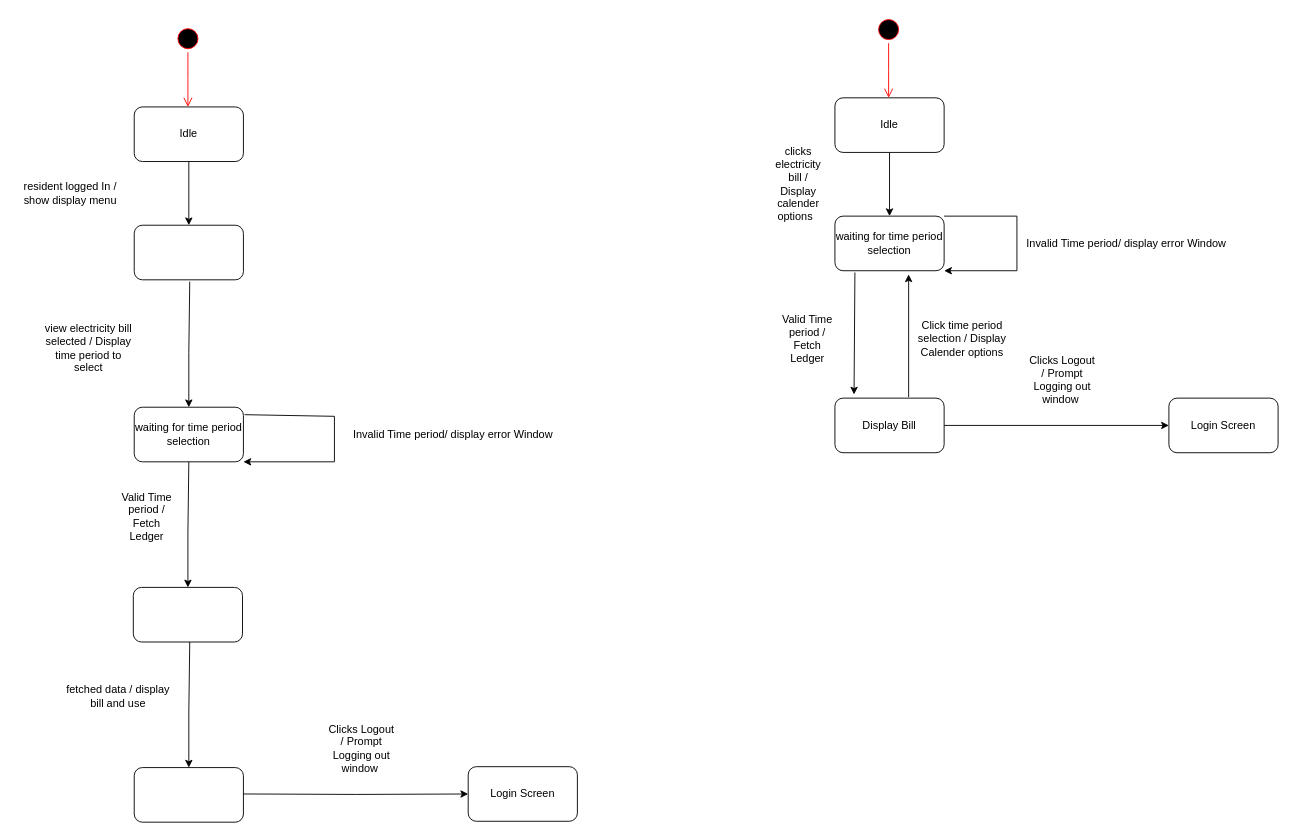
The diagram is 1294 pixels wide and 838 high, and some of its shapes have lost their labels. The centre of each missing label's shape, as x and y in pixels:
Displaying Bill: pixel 188 794
Fetching data from blockchain ledger: pixel 187 614
waiting for selection: pixel 188 252
